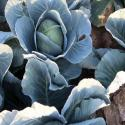cabbage: (38, 7, 71, 52)
